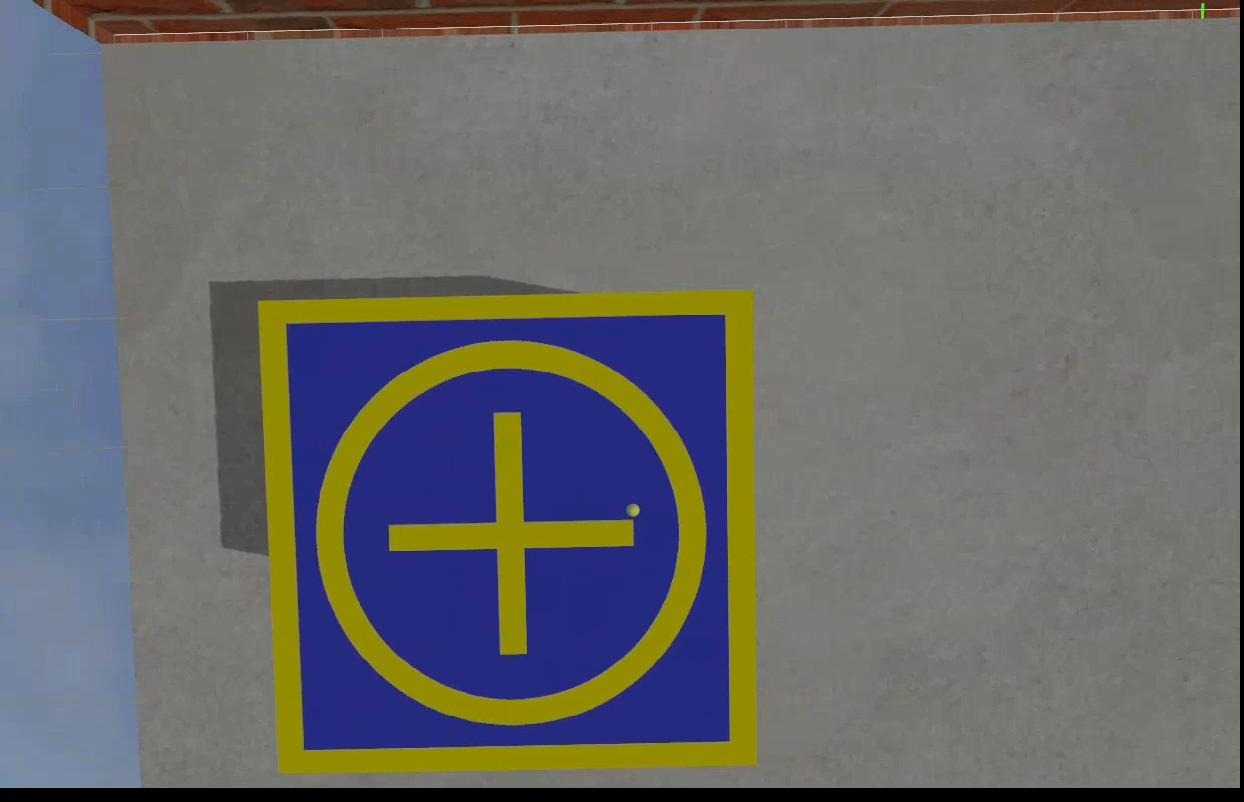small_base: (262, 289, 755, 776)
